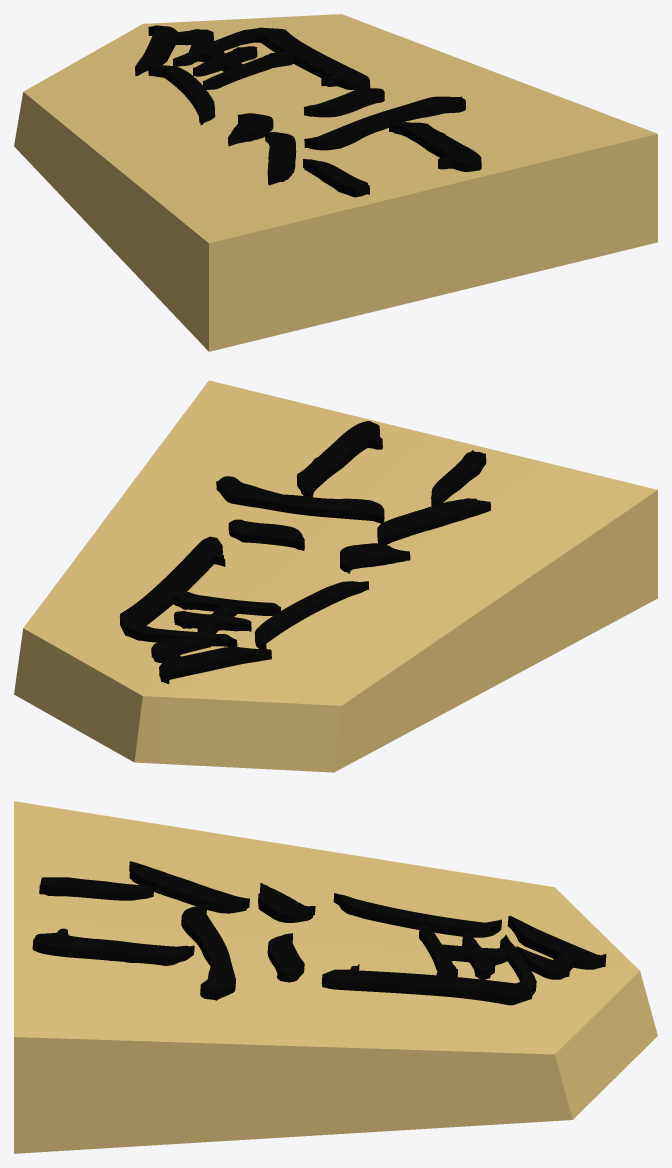
File: Fou.fbx
3 renders of one model, top to bottom at view 1: azimuth 30°, elevation 25°; view 2: azimuth 150°, elevation 25°; view 3: azimuth 270°, elevation 25°, orthographic. The views are drawn at different scales.
Visible parts, largest first — view 1: Fou; view 2: Fou; view 3: Fou.
Boxes of the visible parts, left/top/right/bottom form: Fou: left=14, top=14, right=657, bottom=351; Fou: left=14, top=380, right=657, bottom=772; Fou: left=14, top=801, right=657, bottom=1153.
Bounding box in the file's own units: 63.4 × 15.62 × 73.15.
